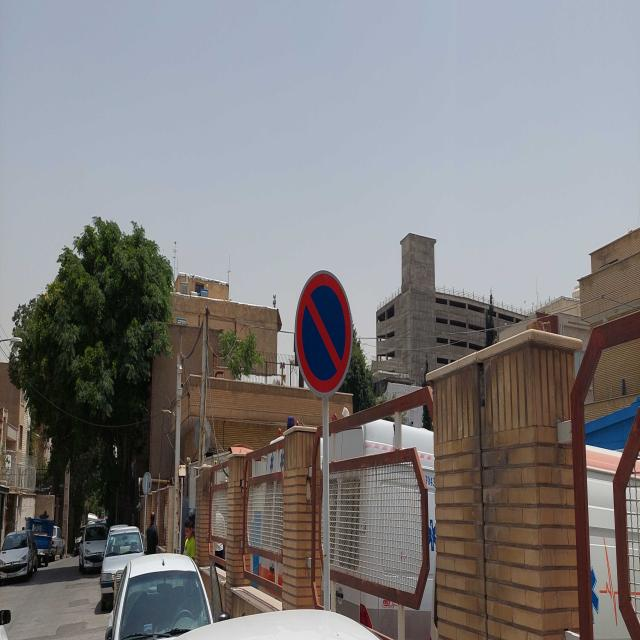forb_stopping: (293, 268, 355, 395)
